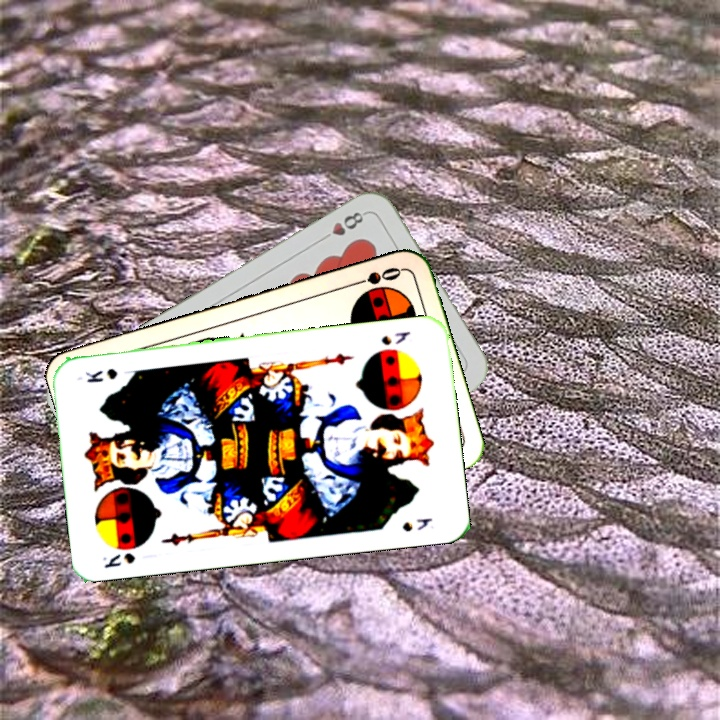H8: (316, 207, 369, 244)
SK: (99, 549, 138, 571), (377, 327, 413, 348)
SO: (347, 263, 404, 289)
